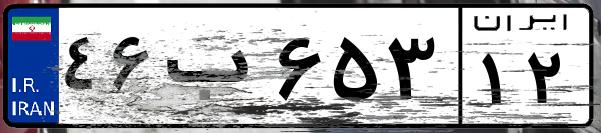1: (475, 38, 525, 113)
2: (525, 38, 570, 115)
3: (385, 28, 445, 110)
4: (57, 26, 110, 100)
5: (330, 28, 385, 110)
6: (270, 28, 330, 110), (110, 28, 158, 98)
ب: (158, 20, 270, 120)
